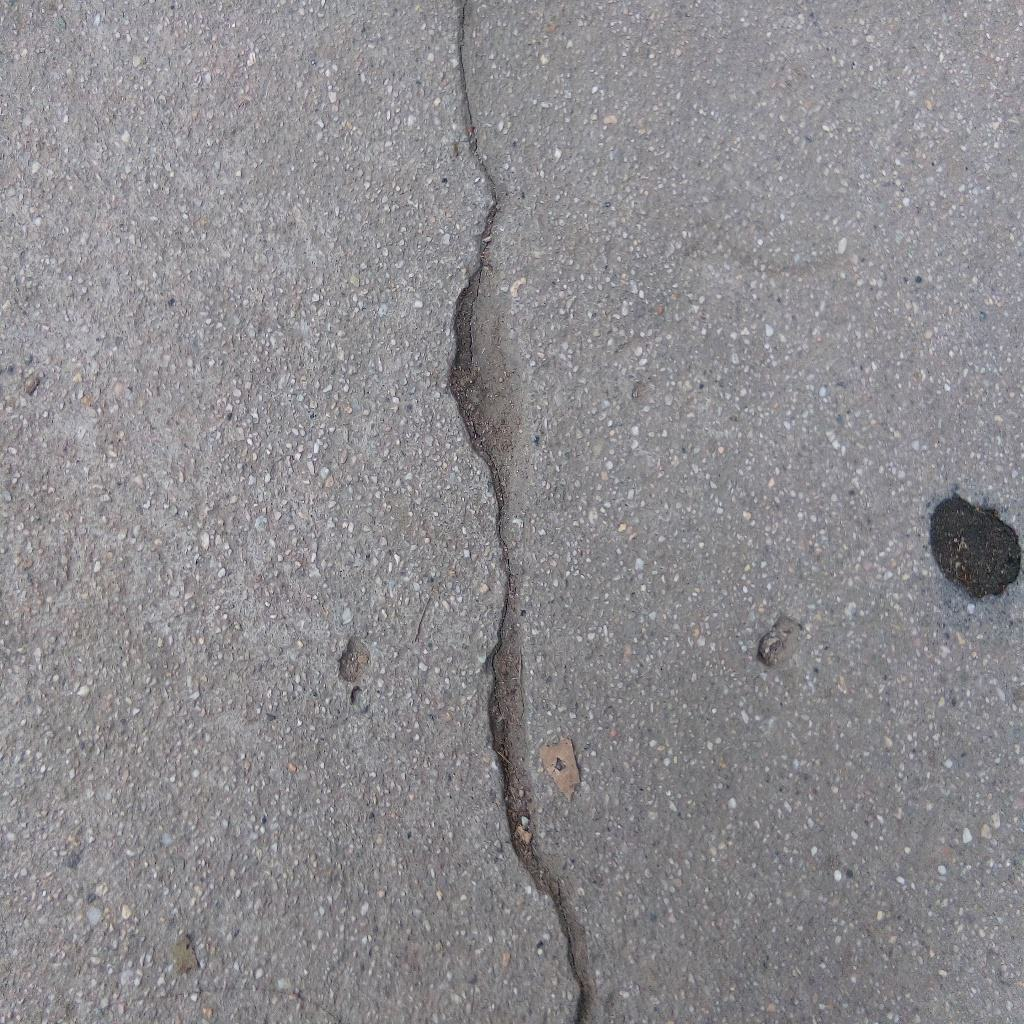Crack: (446, 1, 595, 1024)
Spalling: (928, 490, 1023, 601), (755, 611, 804, 670), (337, 632, 372, 684), (349, 686, 365, 707)
